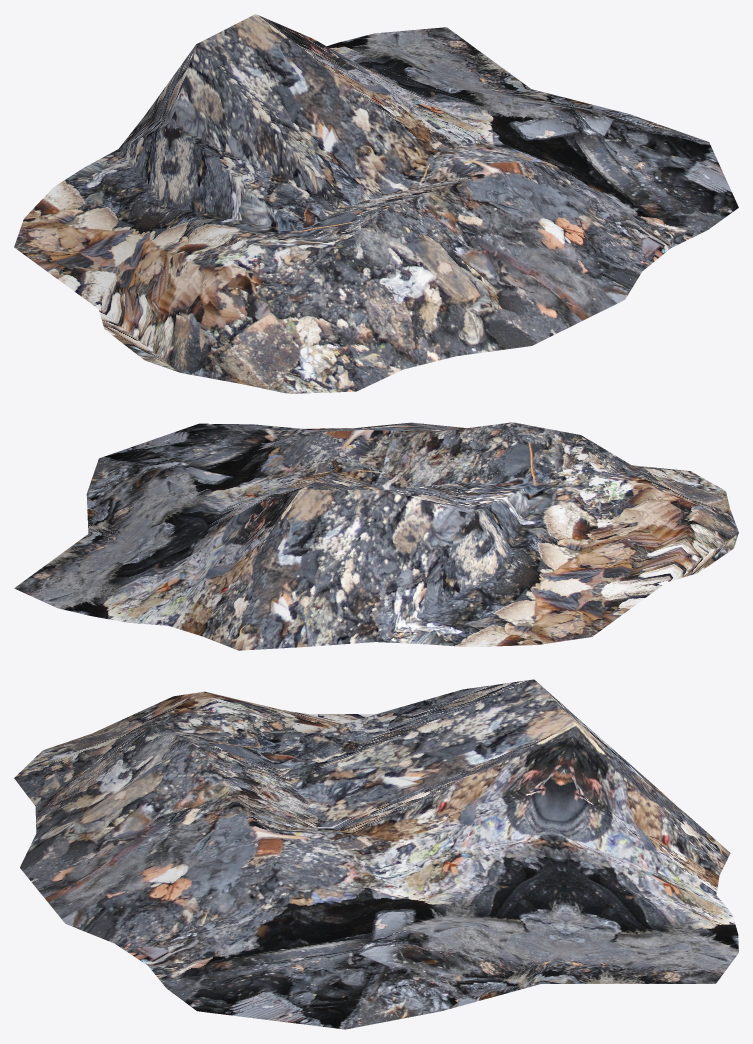
Rendered from rubbish3.obj.
3 renders of one model, top to bottom at view 1: azimuth 30°, elevation 25°; view 2: azimuth 150°, elevation 25°; view 3: azimuth 270°, elevation 25°, orthographic. The views are drawn at different scales.
Parts seen in each view (by area): view 1: def_surf_mat; view 2: def_surf_mat; view 3: def_surf_mat.
Part boxes in pixels (x1,y1,x2,y2): def_surf_mat: (14, 14, 738, 393); def_surf_mat: (14, 422, 738, 650); def_surf_mat: (14, 679, 738, 1029).
Bounding box in the file's own units: 110 × 22.86 × 104.
Materials: 1 (1 with a texture image).
